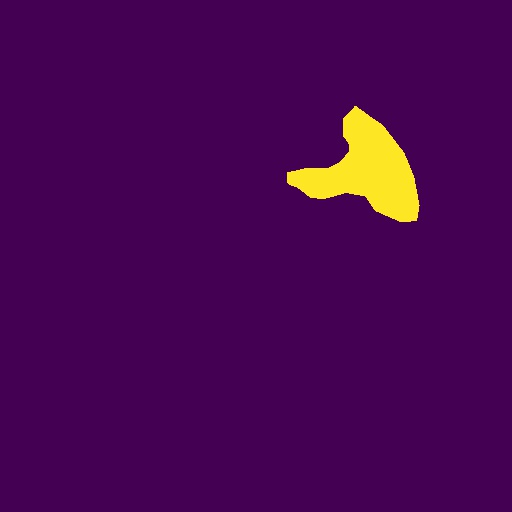Gliomia_tumour: (287, 106, 420, 222)
